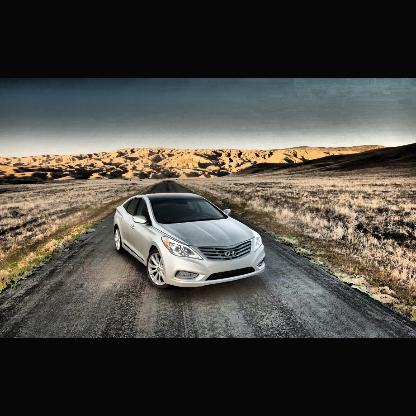Hyundai Azera Sedan 2012: (113, 194, 267, 290)
